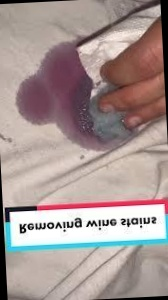wine: (21, 53, 83, 136), (40, 28, 73, 76), (58, 132, 99, 156)
